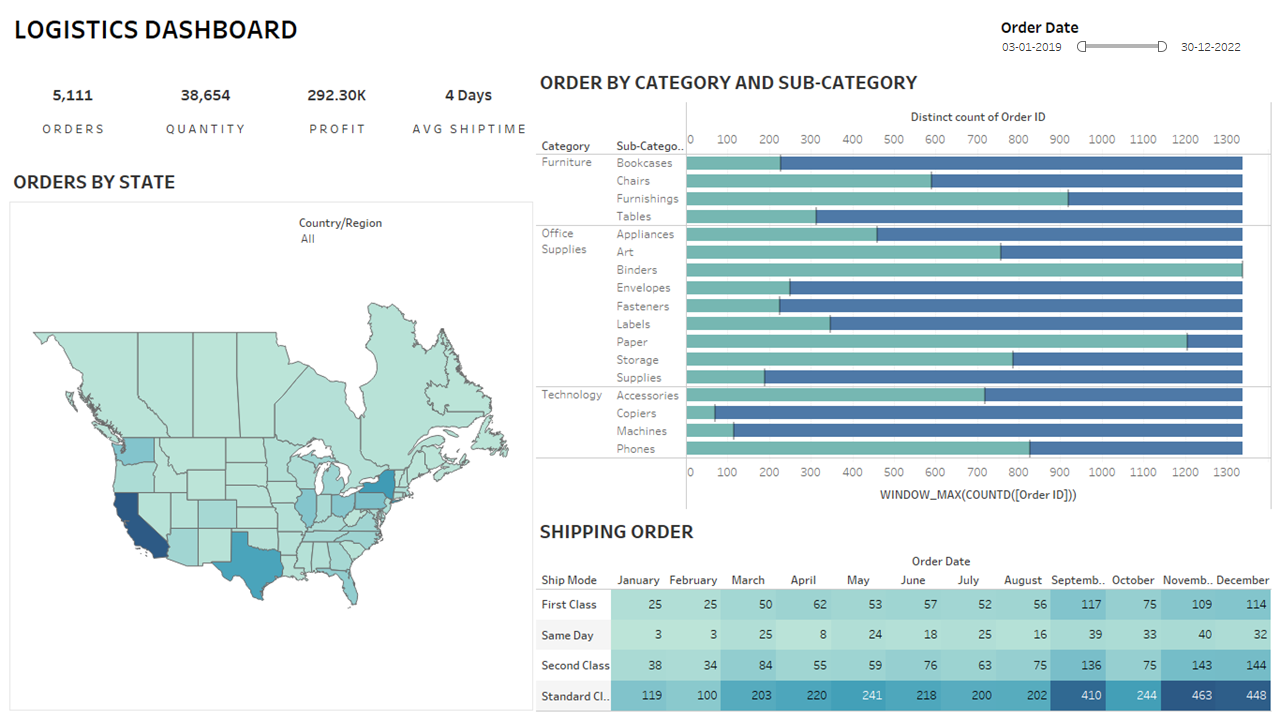

The dashboard page shown, as its layout file describes it:
{"tool":"tableau","page":{"name":"Dashboard 1","canvas":[1000,800],"ordinal":0},"visuals":[{"type":"text","box":[8,8,658,76]},{"type":"filter","title":"Order","param":"[Sample - Superstore].[none:Order Date:qk]","box":[666,8,326,76]},{"type":"worksheet","title":"Order","mark":"Automatic","box":[8,84,129,105]},{"type":"worksheet","title":"Quantity","mark":"Automatic","box":[137,84,129,105]},{"type":"worksheet","title":"Profit","mark":"Automatic","box":[266,84,129,105]},{"type":"worksheet","title":"Avg Ship Time","mark":"Automatic","box":[395,84,129,105]},{"type":"worksheet","title":"Order by sub category","mark":"Bar","rows":["Category","Sub-Category"],"cols":["Calculation_206602655463661570","Order ID"],"box":[524,84,468,493]},{"type":"worksheet","title":"Map","mark":"Automatic","box":[8,189,516,603]},{"type":"filter","title":"Map","param":"[Sample - Superstore].[none:Country/Region:nk]","box":[349,243,168,50]},{"type":"worksheet","title":"SHIPPING ORDER","mark":"Square","rows":["Ship Mode"],"cols":["Order Date"],"box":[524,577,468,215]}]}

Visuals, with their boxes on the page's 1000x800 design canvas (x1, y1, x2, y2). These are canvas units, not pixel positions in the 1280x720 screenshot, which may show the page scaled, cropped or inside an application window:
text: (8,8,666,84)
"Order" filter: (666,8,992,84)
"Order" worksheet: (8,84,137,189)
"Quantity" worksheet: (137,84,266,189)
"Profit" worksheet: (266,84,395,189)
"Avg Ship Time" worksheet: (395,84,524,189)
"Order by sub category" worksheet (Bar marks): (524,84,992,577)
"Map" worksheet: (8,189,524,792)
"Map" filter: (349,243,517,293)
"SHIPPING ORDER" worksheet (Square marks): (524,577,992,792)
